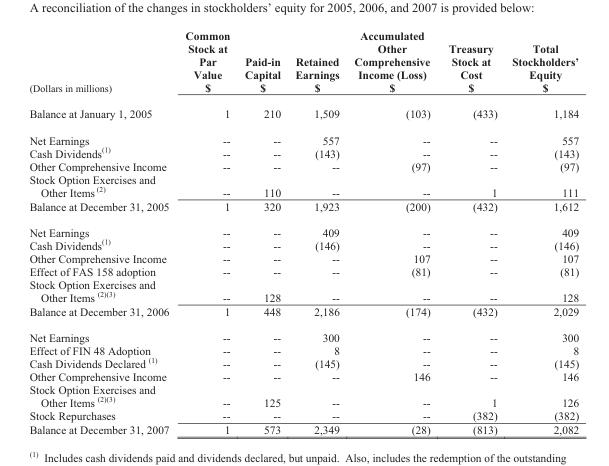table: (28, 28, 578, 435)
table column: (28, 28, 176, 435), (346, 28, 438, 435), (503, 28, 578, 435), (438, 28, 503, 435), (176, 28, 236, 435), (287, 28, 346, 435), (236, 28, 287, 435)
table column header: (28, 28, 578, 100)
table row: (28, 28, 578, 100), (28, 277, 578, 304), (28, 100, 578, 126), (28, 172, 578, 198), (28, 382, 578, 408), (28, 198, 578, 218), (28, 323, 578, 343), (28, 126, 578, 145), (28, 218, 578, 237), (28, 304, 578, 323), (28, 145, 578, 159), (28, 237, 578, 251), (28, 355, 578, 369), (28, 408, 578, 422), (28, 159, 578, 172), (28, 251, 578, 264), (28, 264, 578, 277), (28, 369, 578, 382), (28, 422, 578, 435), (28, 343, 578, 355)
